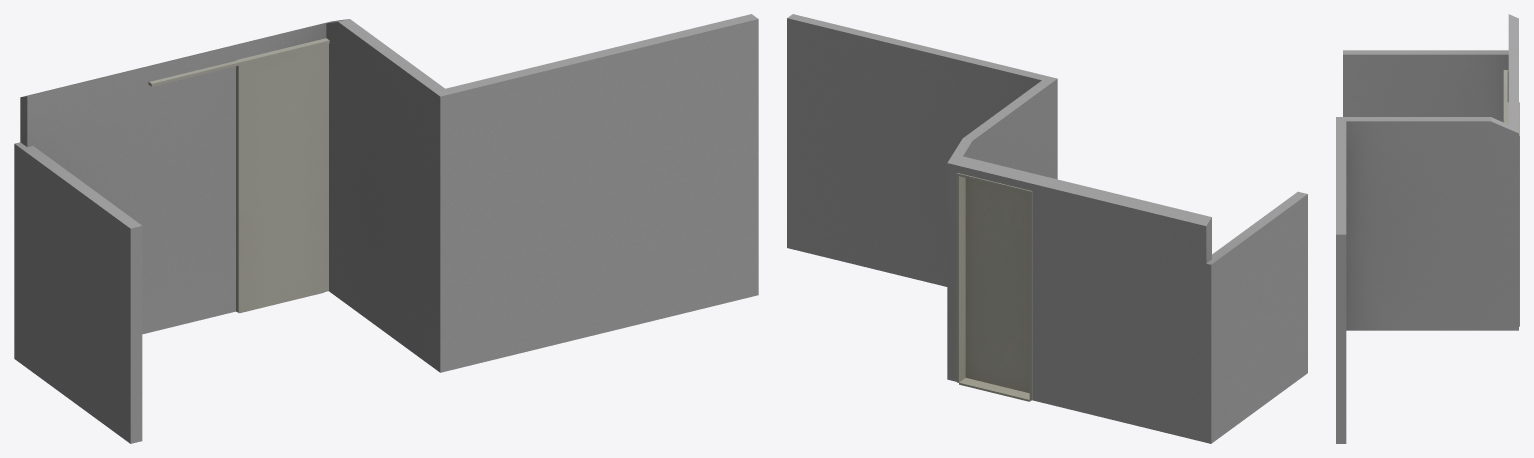
3 views of the same model, side by side, from view 1: azimuth 30°, elevation 25°; view 2: azimuth 150°, elevation 25°; view 3: azimuth 270°, elevation 25° (orthographic). The views are drawn at different scales.
Visible parts, largest first — view 1: OP2; view 2: OP2; view 3: OP2.
Part boxes in pixels (x1=…): OP2: x1=14, y1=14, x2=758, y2=443; OP2: x1=787, y1=14, x2=1307, y2=443; OP2: x1=1336, y1=14, x2=1519, y2=443.
Size of the model in its own units: 5515 by 2352 by 1860.
2 materials, 2 textured.
